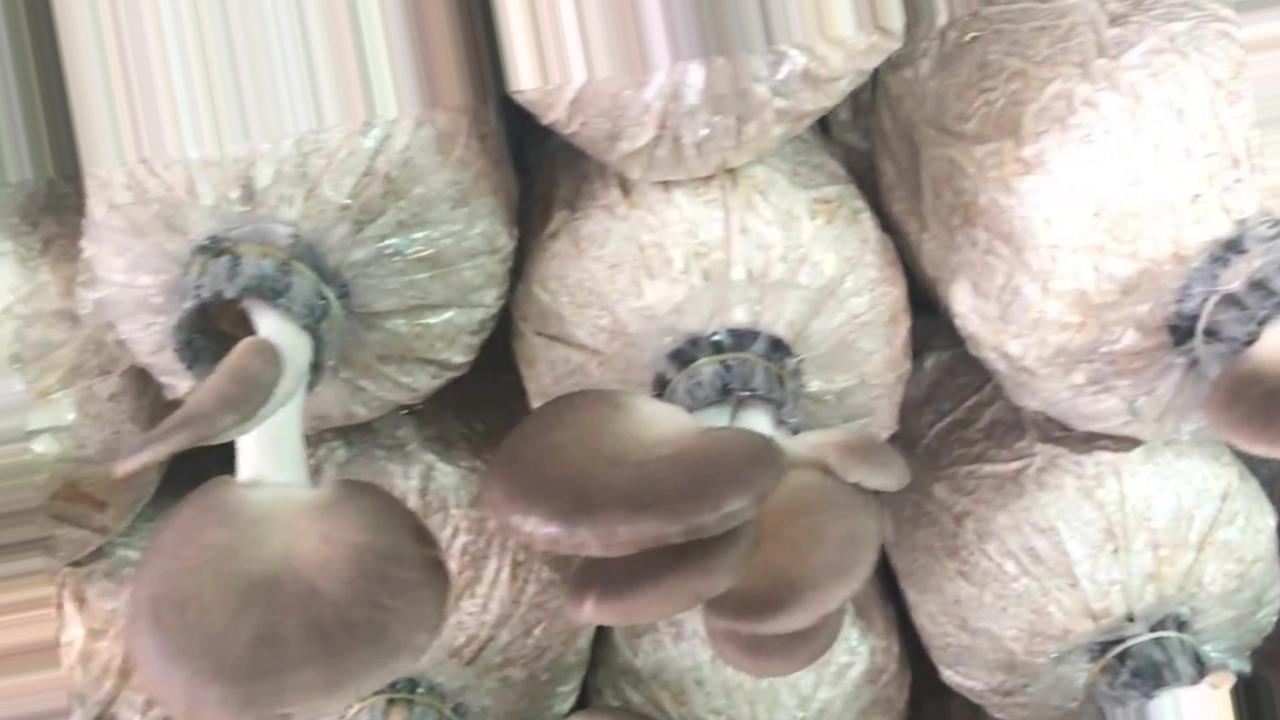nam: (124, 241, 449, 716), (489, 332, 913, 681)
